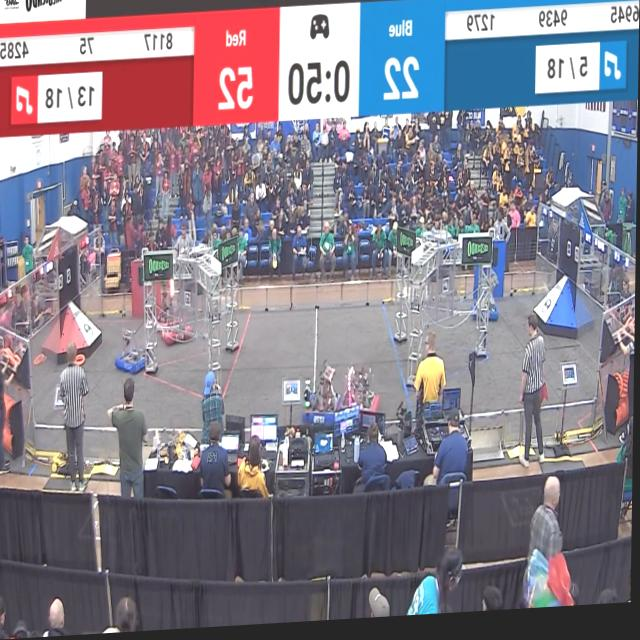Robot: (303, 355, 346, 429), (157, 278, 197, 350), (341, 354, 380, 427), (114, 319, 157, 381), (467, 263, 501, 333), (151, 277, 184, 334)
